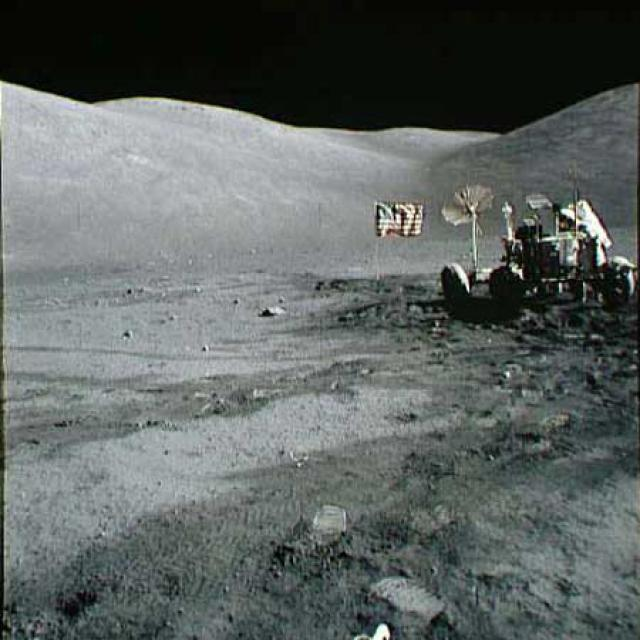artifact: (431, 180, 637, 318), (364, 193, 428, 293)
crater: (24, 281, 167, 308)
rock: (250, 304, 287, 323)
